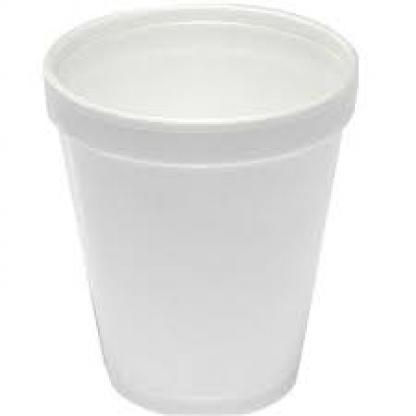paper: (39, 4, 355, 414)
